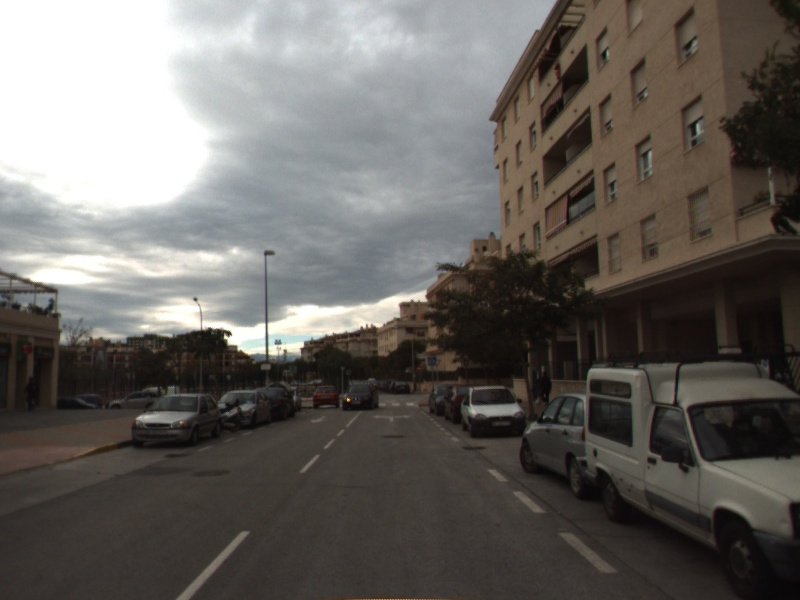LEFT_RIGHT: (371, 412, 413, 424)
